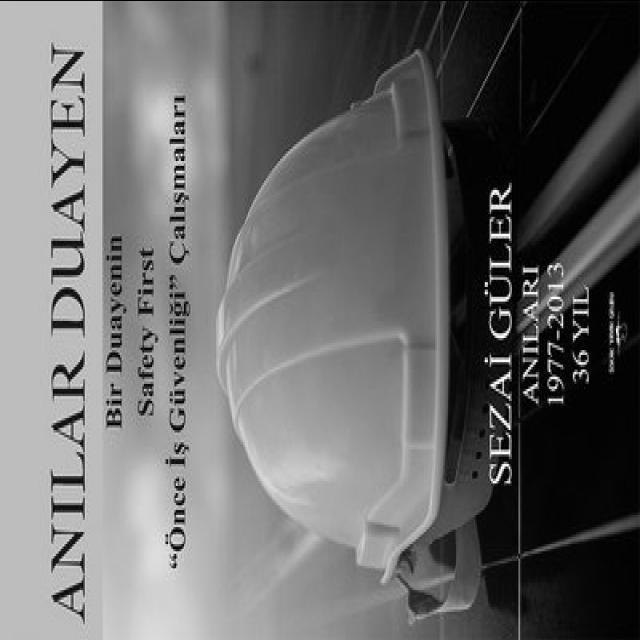safety_helmet: (218, 46, 462, 584)
